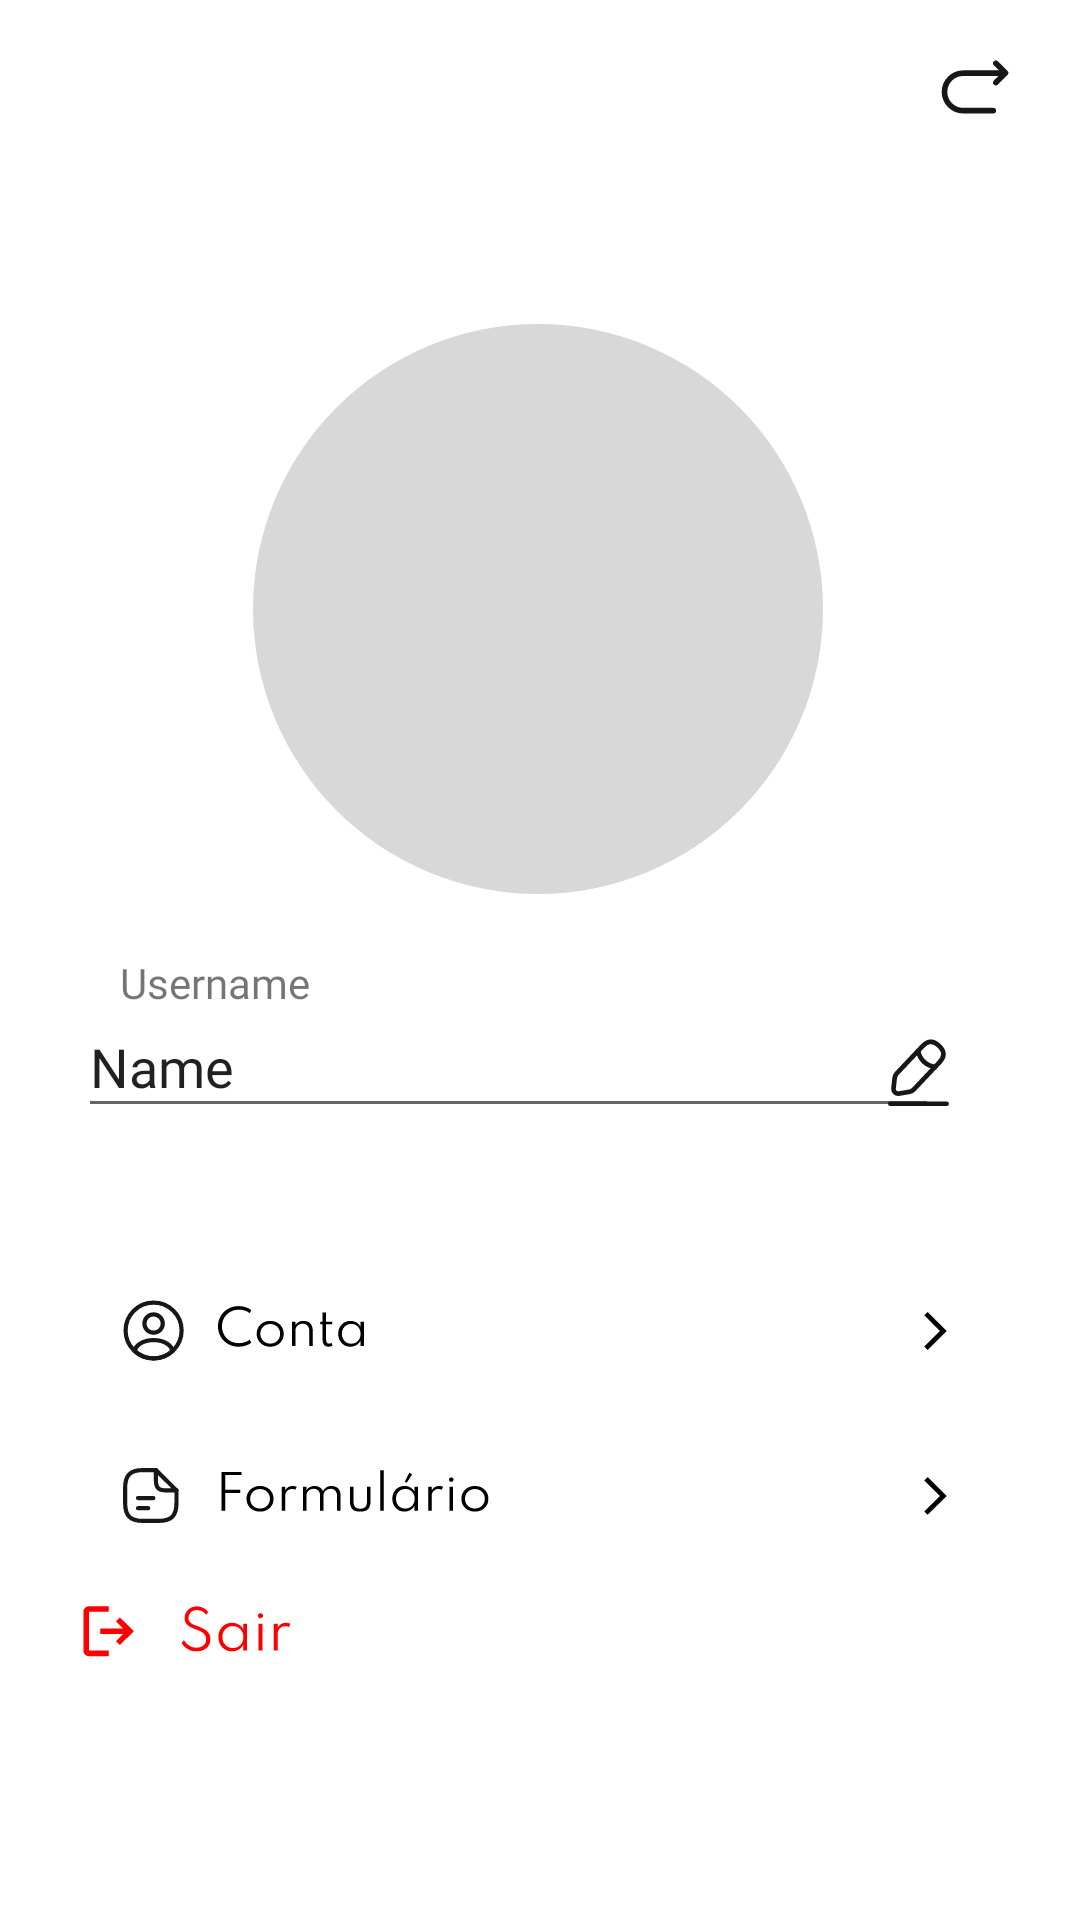

Screen size 1080px x 1920px. Icon name, then its center in pixels as [x,y]:
edit: [918,1067]
